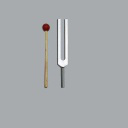Fork: (51, 10, 77, 92)
